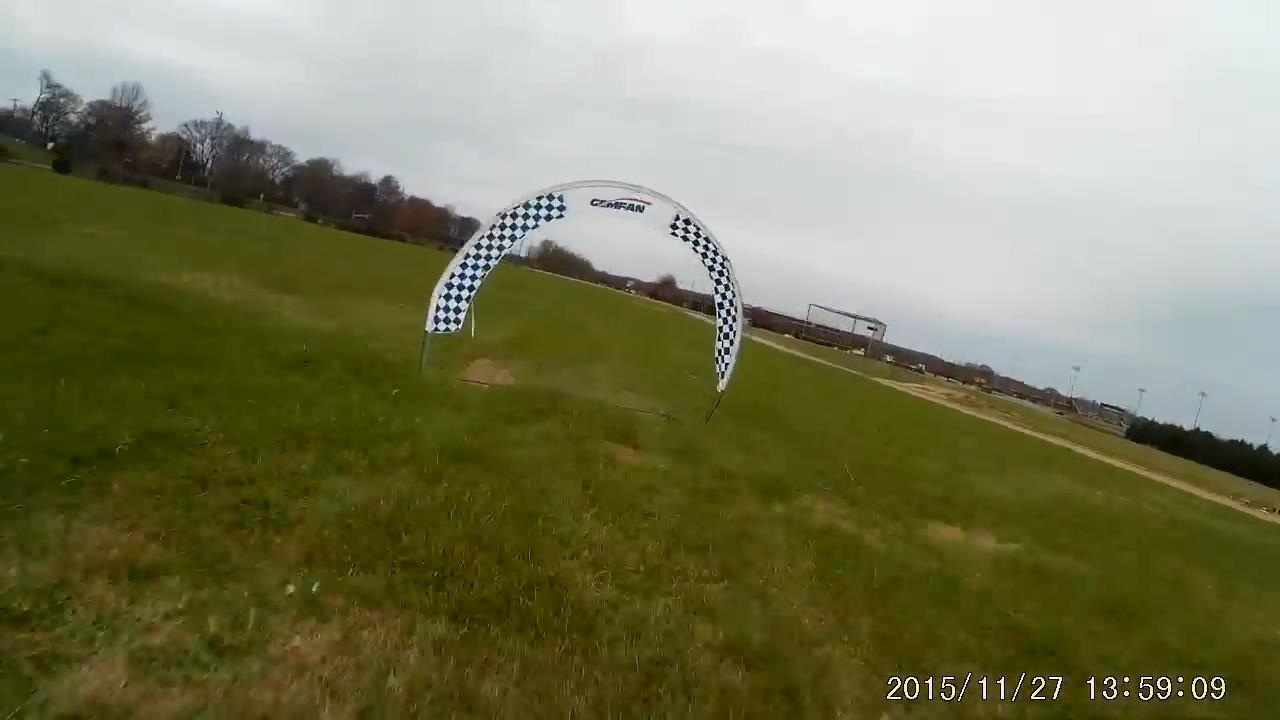gate: (424, 177, 744, 398)
